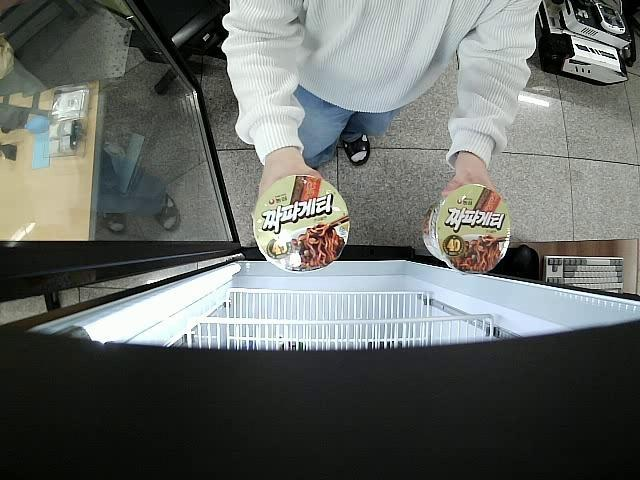03_chapagetti_L: (252, 174, 352, 274), (421, 184, 512, 275)
